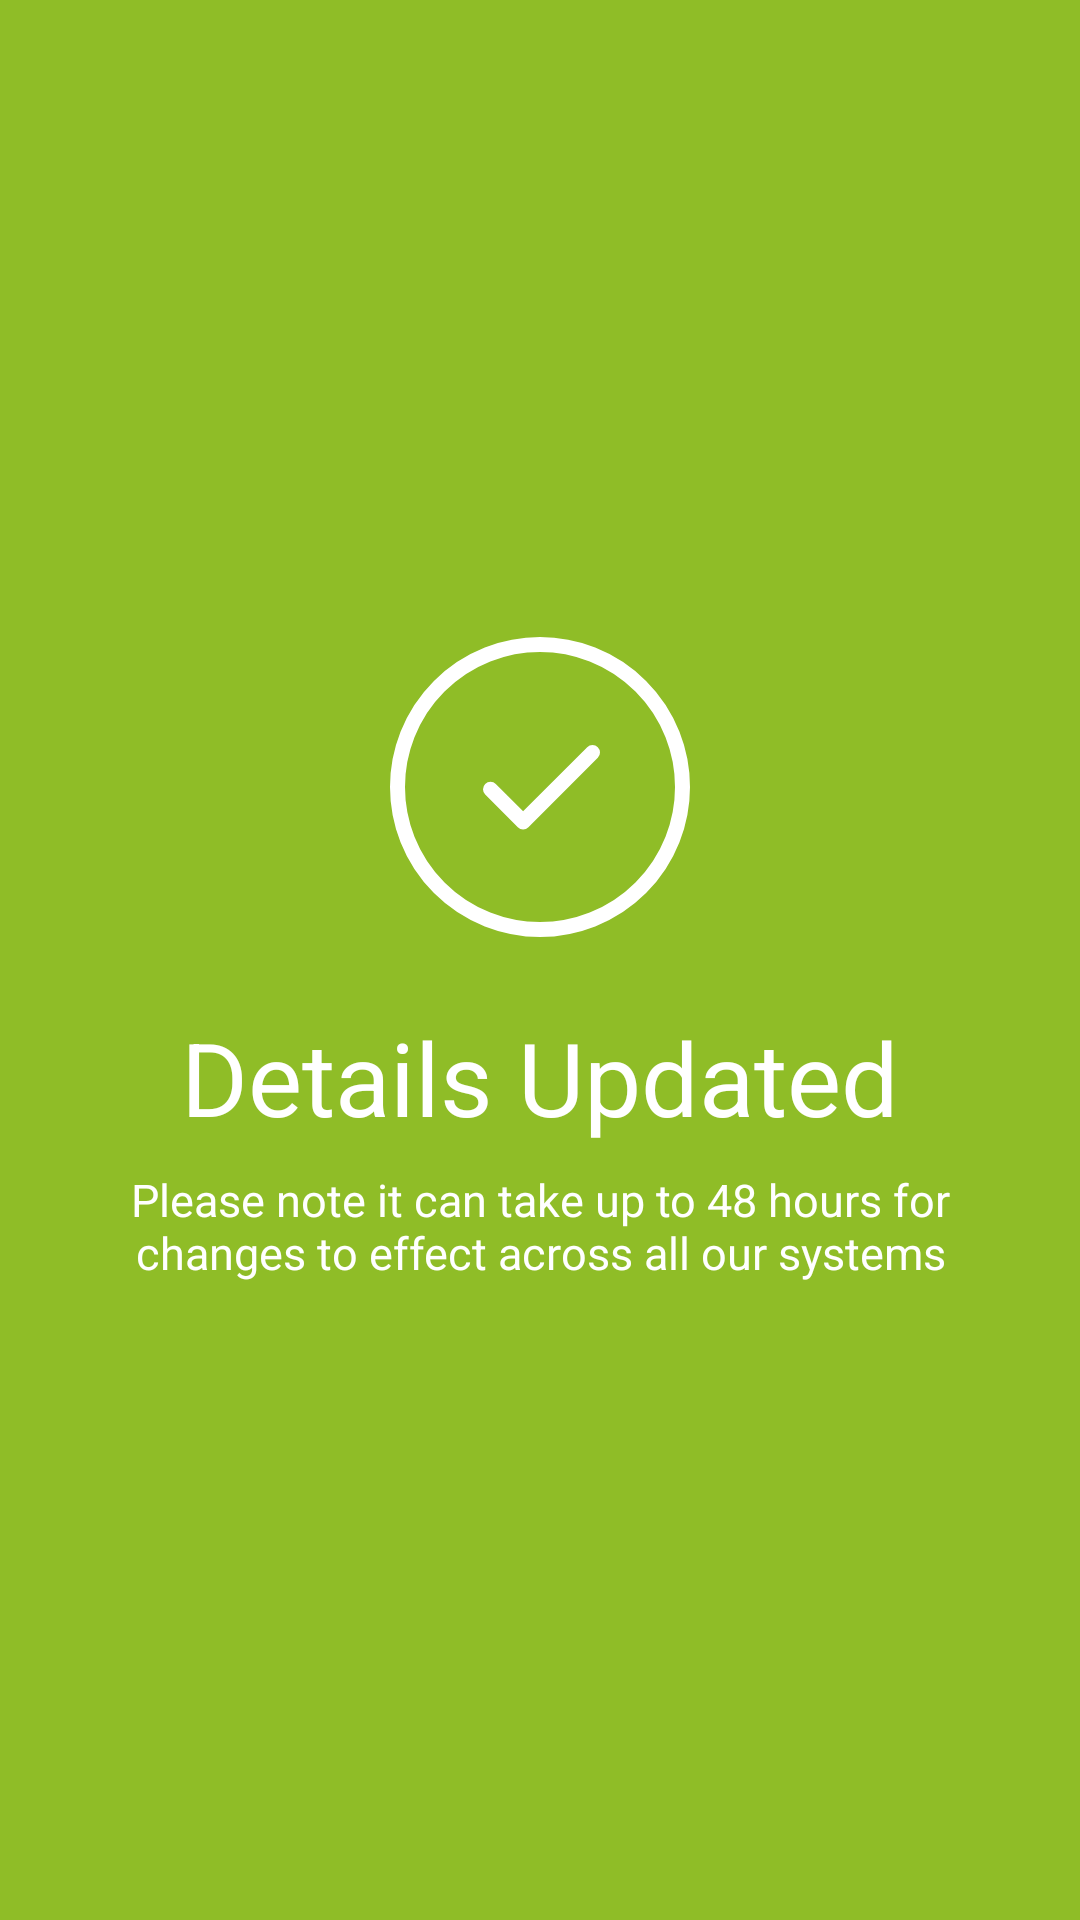

Icon bounding boxes for this 1080 × 1920 phone screenshot, format bbox(x1, y1, x2, y2):
successfull: bbox(390, 637, 690, 937)
